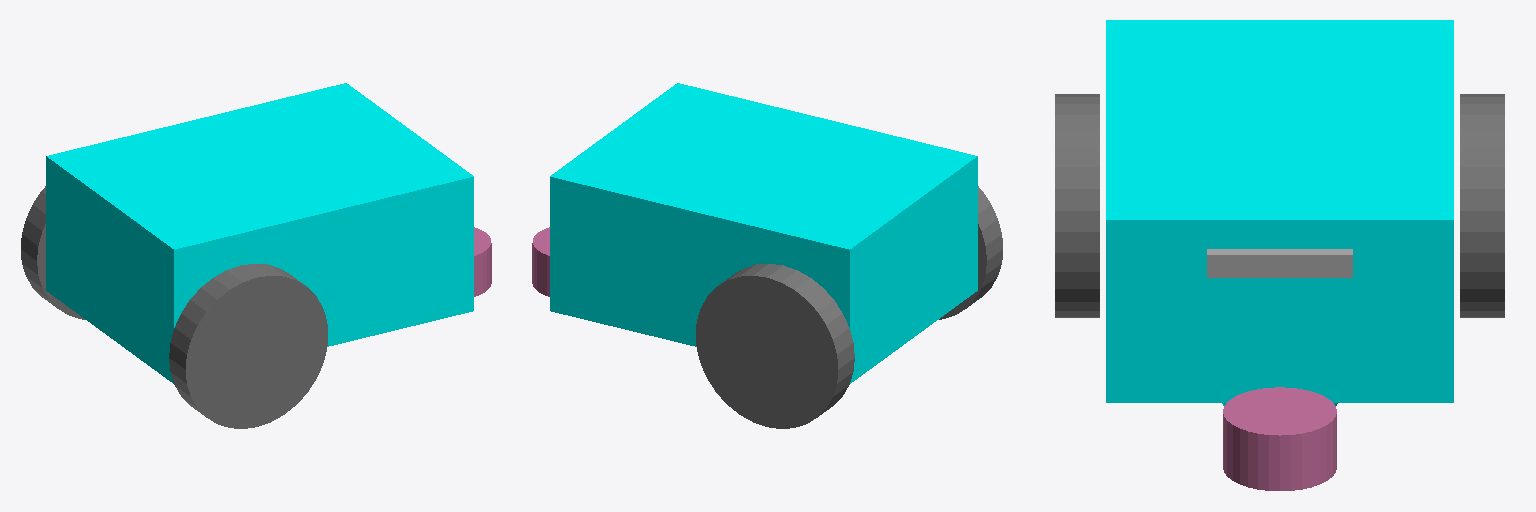
robot.urdf — sam_bot:
<?xml version="1.0" ?>
<!-- =================================================================================== -->
<!-- |    This document was autogenerated by xacro from [local-path]/alamak_gazebo/src/simulasi-2026/description/diff_drive_description.urdf.xacro | -->
<!-- |    EDITING THIS FILE BY HAND IS NOT RECOMMENDED                                 | -->
<!-- =================================================================================== -->
<robot name="sam_bot">
  <!-- Robot Base -->
  <link name="base_link">
    <visual>
      <geometry>
        <box size="0.42 0.31 0.18"/>
      </geometry>
      <material name="Cyan">
        <color rgba="0 1.0 1.0 1.0"/>
      </material>
    </visual>
    <collision>
      <geometry>
        <box size="0.42 0.31 0.18"/>
      </geometry>
    </collision>
    <inertial>
      <origin rpy="1.5707963267948966 0 1.5707963267948966" xyz="0 0 0"/>
      <mass value="15"/>
      <inertia ixx="0.261" ixy="0.0" ixz="0.0" iyy="0.34062499999999996" iyz="0.0" izz="0.16062500000000002"/>
    </inertial>
  </link>
  <!-- Robot Footprint -->
  <link name="base_footprint">
    <inertial>
      <origin rpy="1.5707963267948966 0 1.5707963267948966" xyz="0 0 0"/>
      <mass value="0"/>
      <inertia ixx="0.0" ixy="0.0" ixz="0.0" iyy="0.0" iyz="0.0" izz="0.0"/>
    </inertial>
  </link>
  <joint name="base_joint" type="fixed">
    <parent link="base_link"/>
    <child link="base_footprint"/>
    <origin rpy="0 0 0" xyz="0.0 0.0 -0.15000000000000002"/>
  </joint>
  <link name="drivewhl_l_link">
    <visual>
      <origin rpy="1.5707963267948966 0 0" xyz="0 0 0"/>
      <geometry>
        <cylinder length="0.04" radius="0.1"/>
      </geometry>
      <material name="Gray">
        <color rgba="0.5 0.5 0.5 1.0"/>
      </material>
    </visual>
    <collision>
      <origin rpy="1.5707963267948966 0 0" xyz="0 0 0"/>
      <geometry>
        <cylinder length="0.04" radius="0.1"/>
      </geometry>
    </collision>
    <inertial>
      <origin rpy="1.5707963267948966 0 0" xyz="0 0 0"/>
      <mass value="0.5"/>
      <inertia ixx="0.0013166666666666667" ixy="0" ixz="0" iyy="0.0013166666666666667" iyz="0" izz="0.0025000000000000005"/>
    </inertial>
  </link>
  <joint name="drivewhl_l_joint" type="continuous">
    <parent link="base_link"/>
    <child link="drivewhl_l_link"/>
    <origin rpy="0 0 0" xyz="-0.12 0.18 -0.05"/>
    <axis xyz="0 1 0"/>
  </joint>
  <link name="drivewhl_r_link">
    <visual>
      <origin rpy="1.5707963267948966 0 0" xyz="0 0 0"/>
      <geometry>
        <cylinder length="0.04" radius="0.1"/>
      </geometry>
      <material name="Gray">
        <color rgba="0.5 0.5 0.5 1.0"/>
      </material>
    </visual>
    <collision>
      <origin rpy="1.5707963267948966 0 0" xyz="0 0 0"/>
      <geometry>
        <cylinder length="0.04" radius="0.1"/>
      </geometry>
    </collision>
    <inertial>
      <origin rpy="1.5707963267948966 0 0" xyz="0 0 0"/>
      <mass value="0.5"/>
      <inertia ixx="0.0013166666666666667" ixy="0" ixz="0" iyy="0.0013166666666666667" iyz="0" izz="0.0025000000000000005"/>
    </inertial>
  </link>
  <joint name="drivewhl_r_joint" type="continuous">
    <parent link="base_link"/>
    <child link="drivewhl_r_link"/>
    <origin rpy="0 0 0" xyz="-0.12 -0.18 -0.05"/>
    <axis xyz="0 1 0"/>
  </joint>
  <link name="front_caster">
    <visual>
      <geometry>
        <sphere radius="0.060000000000000026"/>
      </geometry>
      <material name="Cyan">
        <color rgba="0 1.0 1.0 1.0"/>
      </material>
    </visual>
    <collision>
      <origin rpy="0 0 0" xyz="0 0 0"/>
      <geometry>
        <sphere radius="0.060000000000000026"/>
      </geometry>
    </collision>
    <inertial>
      <mass value="0.5"/>
      <inertia ixx="0.0007200000000000006" ixy="0.0" ixz="0.0" iyy="0.0007200000000000006" iyz="0.0" izz="0.0007200000000000006"/>
    </inertial>
  </link>
  <gazebo reference="front_caster">
    <material>Gazebo/Black</material>
    <mu1 value="0.01"/>
    <mu2 value="0.01"/>
  </gazebo>
  <joint name="caster_joint" type="fixed">
    <parent link="base_link"/>
    <child link="front_caster"/>
    <origin rpy="0 0 0" xyz="0.14 0.0 -0.09"/>
  </joint>
  <link name="imu_link">
    <visual>
      <geometry>
        <box size="0.1 0.1 0.1"/>
      </geometry>
    </visual>
    <collision>
      <geometry>
        <box size="0.1 0.1 0.1"/>
      </geometry>
    </collision>
    <inertial>
      <origin rpy="1.5707963267948966 0 1.5707963267948966" xyz="0 0 0"/>
      <mass value="0.1"/>
      <inertia ixx="0.0001666666666666667" ixy="0.0" ixz="0.0" iyy="0.0001666666666666667" iyz="0.0" izz="0.0001666666666666667"/>
    </inertial>
  </link>
  <joint name="imu_joint" type="fixed">
    <parent link="base_link"/>
    <child link="imu_link"/>
    <origin xyz="0 0 0.01"/>
  </joint>
  <gazebo reference="imu_link">
    <sensor name="imu_sensor" type="imu">
      <plugin filename="libgazebo_ros_imu_sensor.so" name="imu_plugin">
        <ros>
          <remapping>~/out:=imu</remapping>
        </ros>
        <initial_orientation_as_reference>false</initial_orientation_as_reference>
      </plugin>
      <always_on>true</always_on>
      <update_rate>100</update_rate>
      <visualize>true</visualize>
      <imu>
        <angular_velocity>
          <x>
            <noise type="gaussian">
              <mean>0.0</mean>
              <stddev>2e-4</stddev>
              <bias_mean>0.0000075</bias_mean>
              <bias_stddev>0.0000008</bias_stddev>
            </noise>
          </x>
          <y>
            <noise type="gaussian">
              <mean>0.0</mean>
              <stddev>2e-4</stddev>
              <bias_mean>0.0000075</bias_mean>
              <bias_stddev>0.0000008</bias_stddev>
            </noise>
          </y>
          <z>
            <noise type="gaussian">
              <mean>0.0</mean>
              <stddev>2e-4</stddev>
              <bias_mean>0.0000075</bias_mean>
              <bias_stddev>0.0000008</bias_stddev>
            </noise>
          </z>
        </angular_velocity>
        <linear_acceleration>
          <x>
            <noise type="gaussian">
              <mean>0.0</mean>
              <stddev>1.7e-2</stddev>
              <bias_mean>0.1</bias_mean>
              <bias_stddev>0.001</bias_stddev>
            </noise>
          </x>
          <y>
            <noise type="gaussian">
              <mean>0.0</mean>
              <stddev>1.7e-2</stddev>
              <bias_mean>0.1</bias_mean>
              <bias_stddev>0.001</bias_stddev>
            </noise>
          </y>
          <z>
            <noise type="gaussian">
              <mean>0.0</mean>
              <stddev>1.7e-2</stddev>
              <bias_mean>0.1</bias_mean>
              <bias_stddev>0.001</bias_stddev>
            </noise>
          </z>
        </linear_acceleration>
      </imu>
    </sensor>
  </gazebo>
  <gazebo>
    <plugin filename="libgazebo_ros_diff_drive.so" name="diff_drive">
      <!-- wheels -->
      <left_joint>drivewhl_l_joint</left_joint>
      <right_joint>drivewhl_r_joint</right_joint>
      <!-- kinematics -->
      <wheel_separation>0.4</wheel_separation>
      <wheel_diameter>0.2</wheel_diameter>
      <!-- limits -->
      <max_wheel_torque>20</max_wheel_torque>
      <max_wheel_acceleration>1.0</max_wheel_acceleration>
      <!-- output -->
      <publish_odom>true</publish_odom>
      <publish_odom_tf>false</publish_odom_tf>
      <publish_wheel_tf>true</publish_wheel_tf>
      <odometry_frame>odom</odometry_frame>
      <robot_base_frame>base_link</robot_base_frame>
    </plugin>
  </gazebo>
  <link name="lidar_link">
    <inertial>
      <origin rpy="0 0 0" xyz="0 0 0"/>
      <mass value="0.125"/>
      <inertia ixx="0.001" ixy="0" ixz="0" iyy="0.001" iyz="0" izz="0.001"/>
    </inertial>
    <collision>
      <origin rpy="0 0 0" xyz="0 0 0"/>
      <geometry>
        <cylinder length="0.055" radius="0.0508"/>
      </geometry>
    </collision>
    <visual>
      <origin rpy="0 0 0" xyz="0 0 0"/>
      <geometry>
        <cylinder length="0.055" radius="0.0508"/>
      </geometry>
    </visual>
  </link>
  <joint name="lidar_joint" type="fixed">
    <parent link="base_link"/>
    <child link="lidar_link"/>
    <origin rpy="0 0 0" xyz="0.265 0 -0.1"/>
  </joint>
  <gazebo reference="lidar_link">
    <sensor name="lidar" type="ray">
      <always_on>true</always_on>
      <visualize>true</visualize>
      <update_rate>10</update_rate>
      <ray>
        <scan>
          <horizontal>
            <samples>80</samples>
            <min_angle>-1.57</min_angle>
            <max_angle>1.57</max_angle>
          </horizontal>
        </scan>
        <range>
          <min>0.150000</min>
          <max>20</max>
          <resolution>0.015000</resolution>
        </range>
        <noise>
          <type>gaussian</type>
          <mean>0.0</mean>
          <stddev>0.01</stddev>
        </noise>
      </ray>
      <plugin filename="libgazebo_ros_ray_sensor.so" name="scan">
        <ros>
          <remapping>~/out:=scan</remapping>
        </ros>
        <output_type>sensor_msgs/LaserScan</output_type>
        <frame_name>lidar_link</frame_name>
      </plugin>
    </sensor>
  </gazebo>
  0
  
  
  <link name="camera_link">
    <visual>
      <origin rpy="0 0 0" xyz="0 0 0"/>
      <geometry>
        <box size="0.015 0.130 0.022"/>
      </geometry>
    </visual>
    <collision>
      <origin rpy="0 0 0" xyz="0 0 0"/>
      <geometry>
        <box size="0.015 0.130 0.022"/>
      </geometry>
    </collision>
    <inertial>
      <origin rpy="0 0 0" xyz="0 0 0"/>
      <mass value="0.035"/>
      <inertia ixx="0.001" ixy="0" ixz="0" iyy="0.001" iyz="0" izz="0.001"/>
    </inertial>
  </link>
  <joint name="camera_joint" type="fixed">
    <parent link="base_link"/>
    <child link="camera_link"/>
    <origin rpy="0 0 0" xyz="0.215 0 0.05"/>
  </joint>
  <link name="camera_depth_frame"/>
  <joint name="camera_depth_joint" type="fixed">
    <origin rpy="-1.5707963267948966 0 -1.5707963267948966" xyz="0 0 0"/>
    <parent link="camera_link"/>
    <child link="camera_depth_frame"/>
  </joint>
  <gazebo reference="camera_link">
    <sensor name="depth_camera" type="depth">
      <visualize>true</visualize>
      <update_rate>30.0</update_rate>
      <camera name="camera">
        <horizontal_fov>1.047198</horizontal_fov>
        <image>
          <width>640</width>
          <height>480</height>
          <format>R8G8B8</format>
        </image>
        <clip>
          <near>0.05</near>
          <far>2.56</far>
        </clip>
      </camera>
      <plugin filename="libgazebo_ros_camera.so" name="depth_camera_controller">
        <baseline>0.2</baseline>
        <alwaysOn>true</alwaysOn>
        <updateRate>0.0</updateRate>
        <frame_name>camera_depth_frame</frame_name>
        <pointCloudCutoff>0.5</pointCloudCutoff>
        <pointCloudCutoffMax>3.0</pointCloudCutoffMax>
        <distortionK1>0</distortionK1>
        <distortionK2>0</distortionK2>
        <distortionK3>0</distortionK3>
        <distortionT1>0</distortionT1>
        <distortionT2>0</distortionT2>
        <CxPrime>0</CxPrime>
        <Cx>0</Cx>
        <Cy>0</Cy>
        <focalLength>0</focalLength>
        <hackBaseline>0</hackBaseline>
      </plugin>
    </sensor>
  </gazebo>
</robot>

--- Render facts (derived) ---
The picture shows the robot from 3 angles, left to right: view 1: azimuth 30°, elevation 25°; view 2: azimuth 150°, elevation 25°; view 3: azimuth 270°, elevation 25°; orthographic projection.
Model sam_bot with 9 links and 8 joints (2 continuous, 6 fixed), rooted at base_link, posed every joint at zero.
Visible links, largest first — view 1: base_link, drivewhl_r_link, drivewhl_l_link, lidar_link; view 2: base_link, drivewhl_l_link, drivewhl_r_link, lidar_link; view 3: base_link, lidar_link, drivewhl_l_link, drivewhl_r_link, camera_link.
Link boxes in pixels (bbox=[...]): base_link: bbox=[46, 83, 473, 383]; drivewhl_r_link: bbox=[169, 264, 327, 428]; drivewhl_l_link: bbox=[21, 186, 84, 319]; lidar_link: bbox=[474, 227, 491, 296]; base_link: bbox=[550, 83, 977, 383]; drivewhl_l_link: bbox=[696, 264, 854, 428]; drivewhl_r_link: bbox=[939, 186, 1002, 319]; lidar_link: bbox=[532, 227, 549, 296]; base_link: bbox=[1106, 20, 1453, 402]; lidar_link: bbox=[1223, 387, 1336, 490]; drivewhl_l_link: bbox=[1460, 94, 1504, 317]; drivewhl_r_link: bbox=[1055, 94, 1099, 317]; camera_link: bbox=[1207, 249, 1352, 277].
Size in the robot's own frame: 0.5358 by 0.4 by 0.24 metres.
Geometry: primitives only (box / cylinder / sphere), no mesh files.
